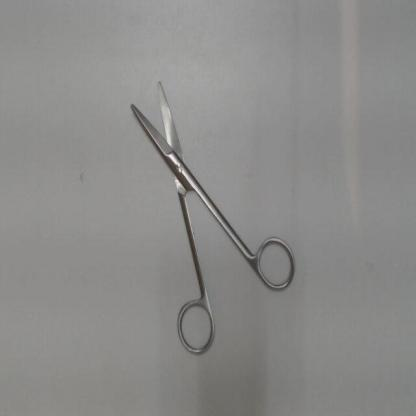Curved Mayo Scissors: (124, 70, 299, 362)
